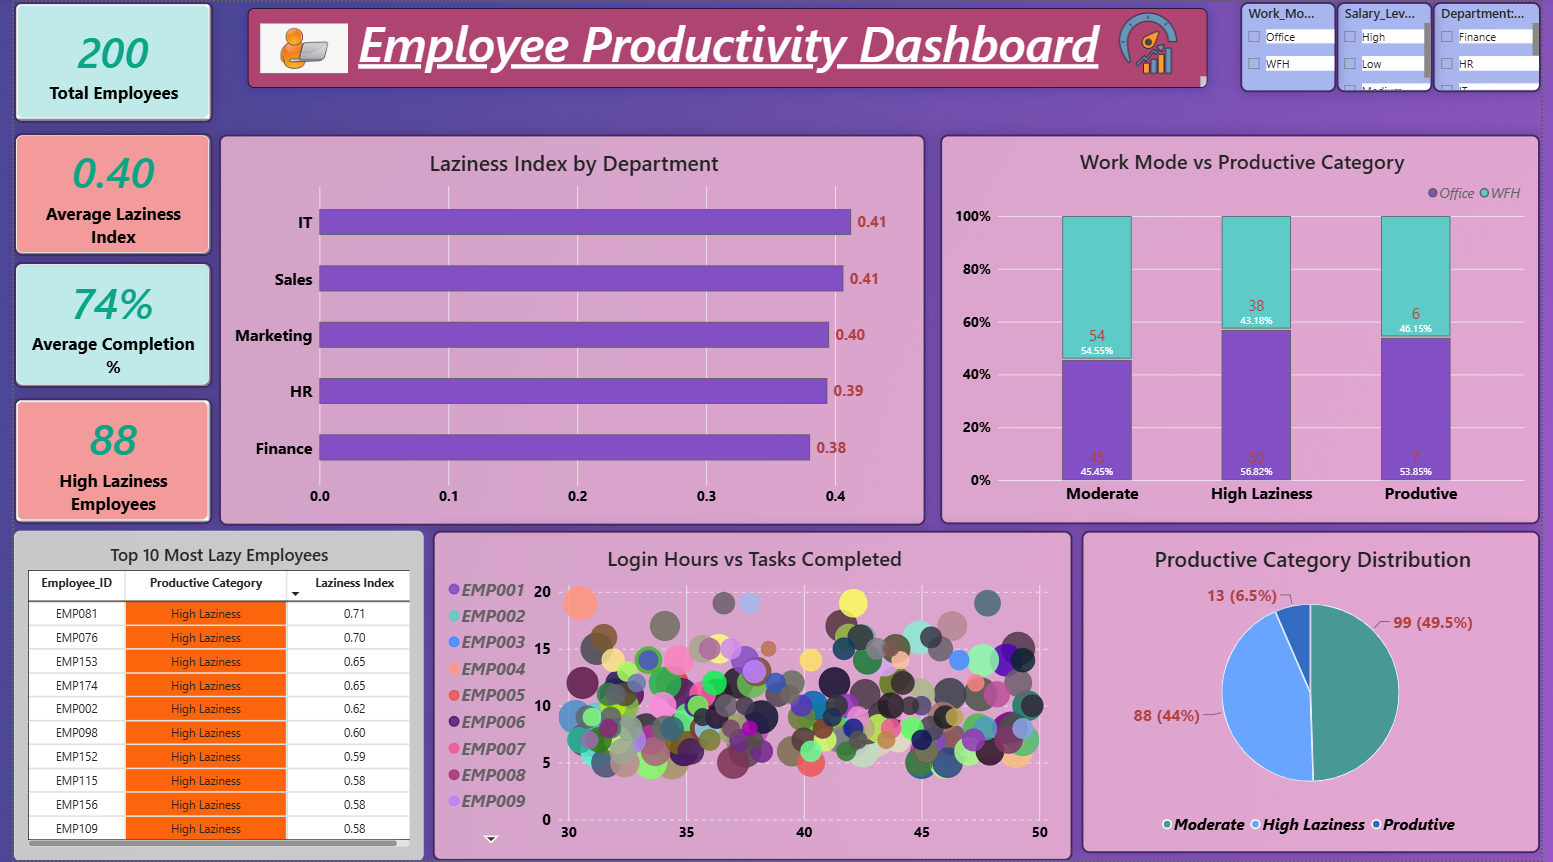

The page's visual inventory and layout, read from the dashboard file:
{"tool":"powerbi","page":{"name":"Dashboard","canvas":[1920,1080],"ordinal":0},"visuals":[{"type":"cardVisual","fields":{"Data":["Worksmart pvt ltd.Total Employees"]},"box":[0,0,278.3,151],"z":0},{"type":"cardVisual","fields":{"Data":["Worksmart pvt ltd.High Laziness"]},"box":[0,470.2,278.3,157.3],"z":1000},{"type":"cardVisual","fields":{"Data":["Worksmart pvt ltd.Average Completion"]},"box":[0,303.5,278.3,166.7],"z":2000},{"type":"cardVisual","fields":{"Data":["Worksmart pvt ltd.Average Laziness"]},"box":[0,151,278.3,152.5],"z":3000},{"type":"clusteredBarChart","title":"Laziness Index by Department","fields":{"Category":["Worksmart pvt ltd.Department"],"Y":["Worksmart pvt ltd.Average Laziness Index"]},"box":[294.1,166.7,860.2,460.7],"z":4000},{"type":"hundredPercentStackedColumnChart","title":"Work Mode vs Productive Category","fields":{"Category":["Worksmart pvt ltd.Productive Category"],"Series":["Worksmart pvt ltd.Work_Mode"],"Y":["CountNonNull(Worksmart pvt ltd.Employee_ID)"]},"box":[1165.2,166.7,754.8,460.7],"z":5000},{"type":"pieChart","title":"Productive Category Distribution","fields":{"Category":["Worksmart pvt ltd.Productive Category"],"Y":["CountNonNull(Worksmart pvt ltd.Employee_ID)"]},"box":[1342.9,640,577.1,430.9],"z":6000},{"type":"scatterChart","title":"Login Hours vs Tasks Completed","fields":{"Series":["Worksmart pvt ltd.Employee_ID"],"Size":["Sum(Worksmart pvt ltd.Social_Media_Usage_Hours)"],"X":["Worksmart pvt ltd.Login_Hours"],"Y":["Worksmart pvt ltd.Tasks_Completed"]},"box":[526.8,640,805.1,440.3],"z":7000},{"type":"tableEx","title":"Top 10 Most Lazy Employees","fields":{"Values":["Worksmart pvt ltd.Employee_ID","Worksmart pvt ltd.Productive Category","Worksmart pvt ltd.Laziness Index"]},"box":[0,640,515.8,440.3],"z":8000},{"type":"slicer","fields":{"Values":["Worksmart pvt ltd.Department"]},"box":[1784.2,0,135.7,113.6],"z":9000},{"type":"slicer","fields":{"Values":["Worksmart pvt ltd.Salary_Level"]},"box":[1663.8,0,120.4,113.6],"z":10000},{"type":"textbox","box":[309.8,7.9,1206.1,100.6],"z":11000},{"type":"slicer","fields":{"Values":["Worksmart pvt ltd.Work_Mode"]},"box":[1543.3,0,120.4,113.6],"z":12000},{"type":"image","box":[310.4,8.5,110.2,100.1],"z":13000},{"type":"image","box":[1368.7,11.9,117,78],"z":14000}]}

Visuals, with their boxes in screenshot pixels (x1, y1, x2, y2), scaled from the page's 1920x1080 canvas onto the 1553x862 screenshot:
cardVisual - Worksmart pvt ltd.Total Employees: {"x1": 0, "y1": 0, "x2": 225, "y2": 121}
cardVisual - Worksmart pvt ltd.High Laziness: {"x1": 0, "y1": 375, "x2": 225, "y2": 501}
cardVisual - Worksmart pvt ltd.Average Completion: {"x1": 0, "y1": 242, "x2": 225, "y2": 375}
cardVisual - Worksmart pvt ltd.Average Laziness: {"x1": 0, "y1": 121, "x2": 225, "y2": 242}
"Laziness Index by Department" clusteredBarChart: {"x1": 238, "y1": 133, "x2": 934, "y2": 501}
"Work Mode vs Productive Category" hundredPercentStackedColumnChart: {"x1": 942, "y1": 133, "x2": 1552, "y2": 501}
"Productive Category Distribution" pieChart: {"x1": 1086, "y1": 511, "x2": 1552, "y2": 855}
"Login Hours vs Tasks Completed" scatterChart: {"x1": 426, "y1": 511, "x2": 1077, "y2": 861}
"Top 10 Most Lazy Employees" tableEx: {"x1": 0, "y1": 511, "x2": 417, "y2": 861}
slicer - Worksmart pvt ltd.Department: {"x1": 1443, "y1": 0, "x2": 1552, "y2": 91}
slicer - Worksmart pvt ltd.Salary_Level: {"x1": 1346, "y1": 0, "x2": 1443, "y2": 91}
textbox: {"x1": 251, "y1": 6, "x2": 1226, "y2": 87}
slicer - Worksmart pvt ltd.Work_Mode: {"x1": 1248, "y1": 0, "x2": 1346, "y2": 91}
image: {"x1": 251, "y1": 7, "x2": 340, "y2": 87}
image: {"x1": 1107, "y1": 9, "x2": 1202, "y2": 72}
